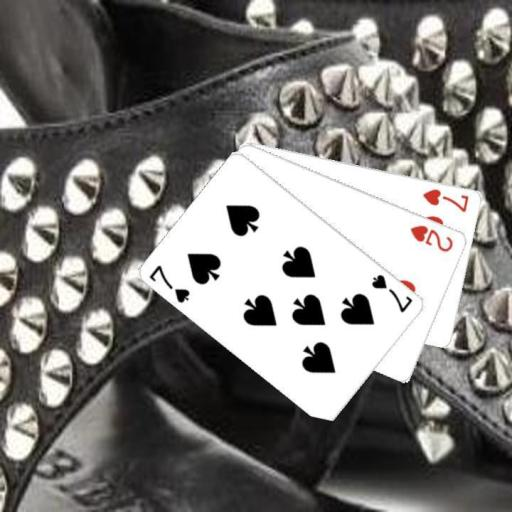card-corner: (368, 271, 416, 314), (146, 262, 192, 305), (407, 221, 455, 254), (420, 185, 470, 213)
